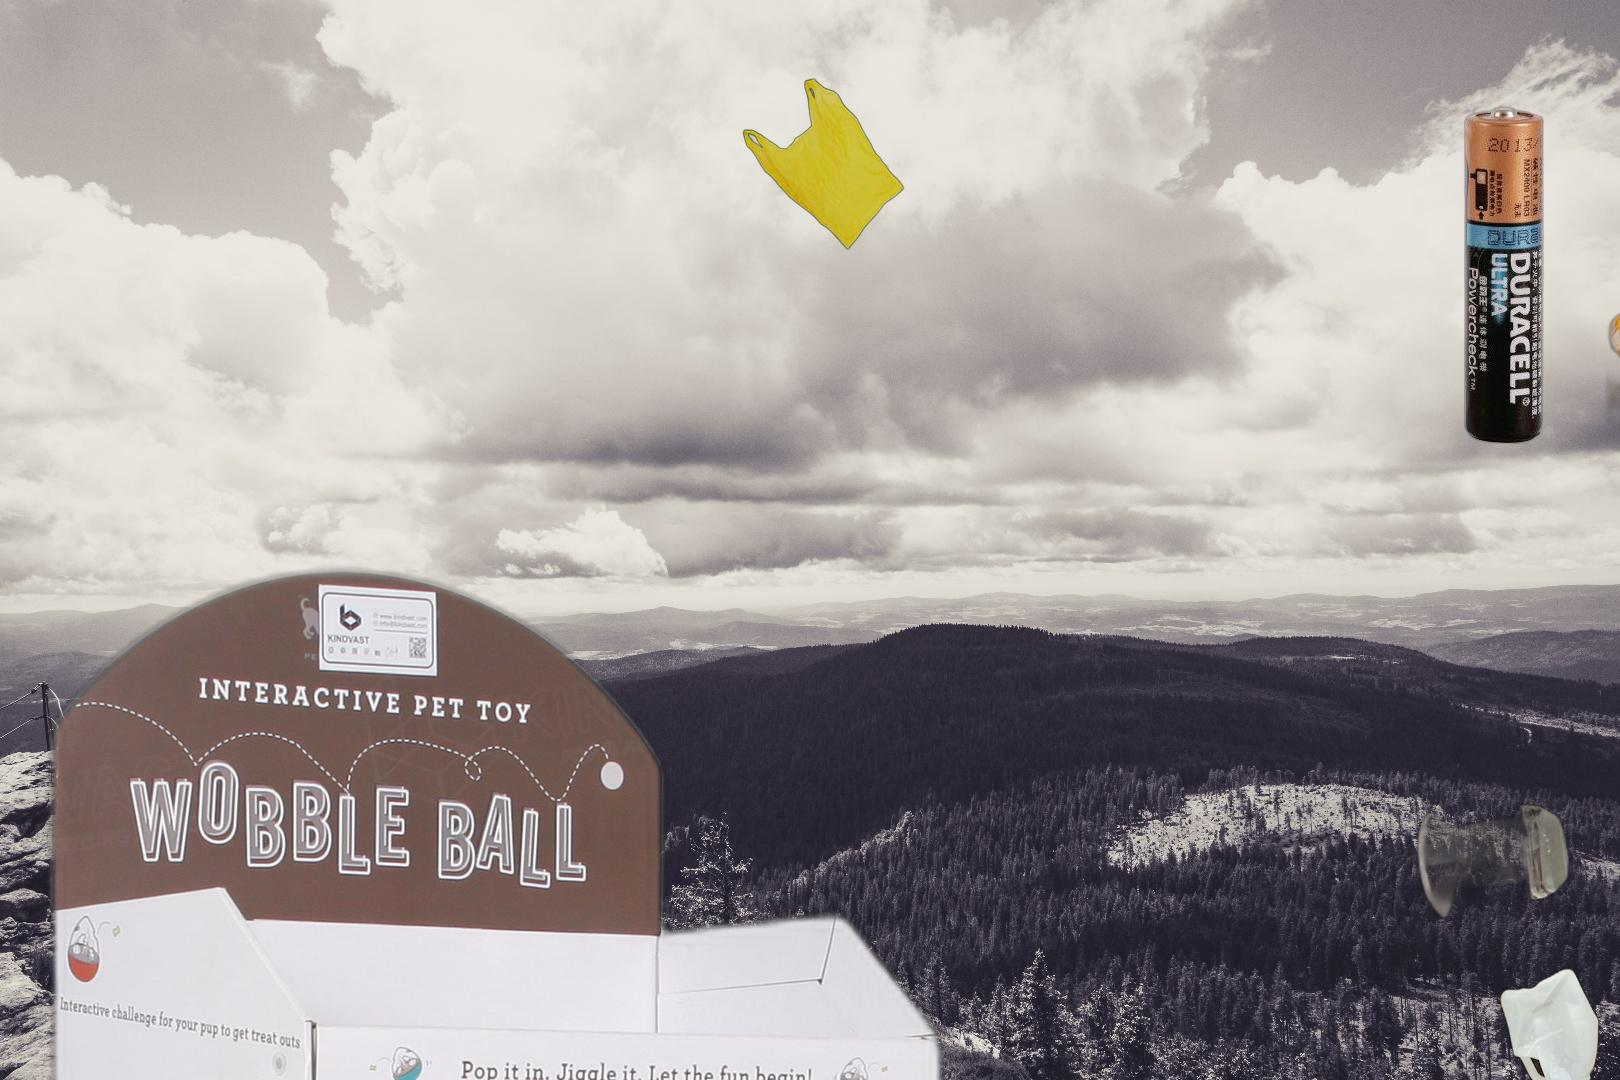battery: (1462, 104, 1546, 447)
glass: (1411, 802, 1577, 920)
paper-bag: (1601, 230, 1620, 425)
plastic-bag: (740, 78, 906, 252)
plastic-bottles: (1496, 962, 1604, 1080)
trashbox-cardboard: (33, 552, 967, 1080)
